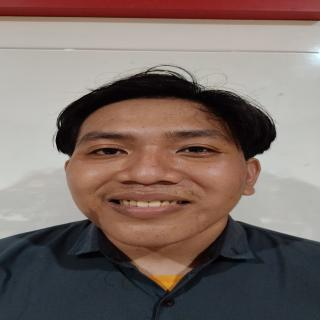Senang: (61, 88, 263, 249)
